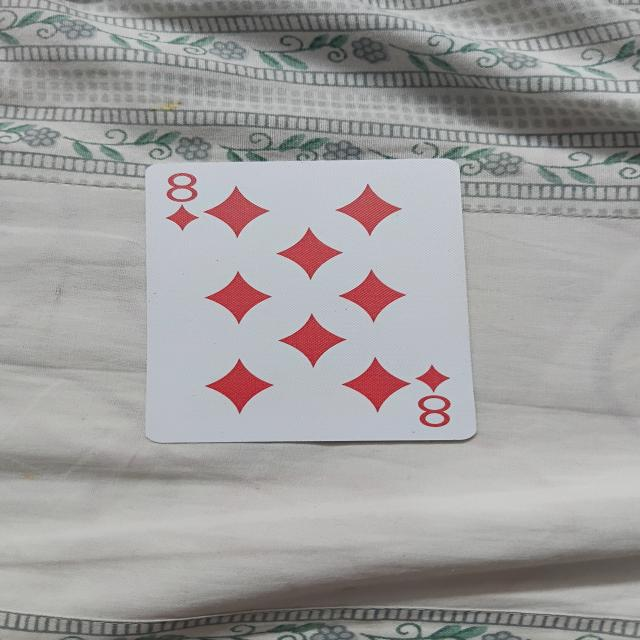8D: (143, 154, 474, 441)
